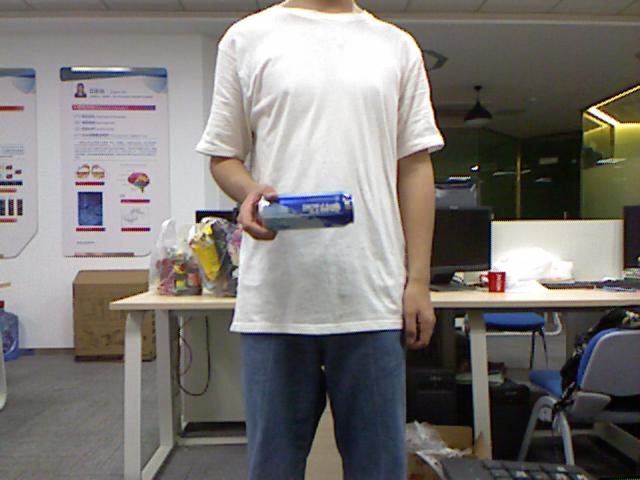metal: (258, 192, 354, 231)
